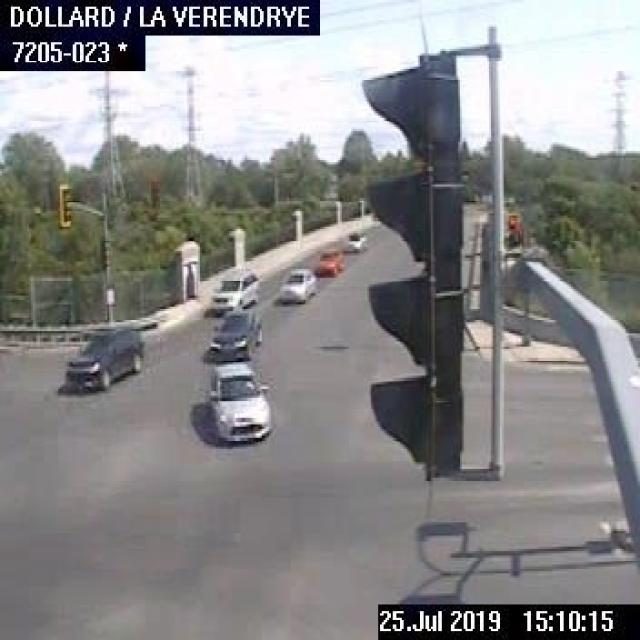vehicle: (62, 324, 144, 389), (204, 360, 269, 438), (202, 309, 265, 360), (208, 264, 258, 308), (276, 264, 316, 302), (313, 247, 349, 277), (346, 229, 366, 249)
